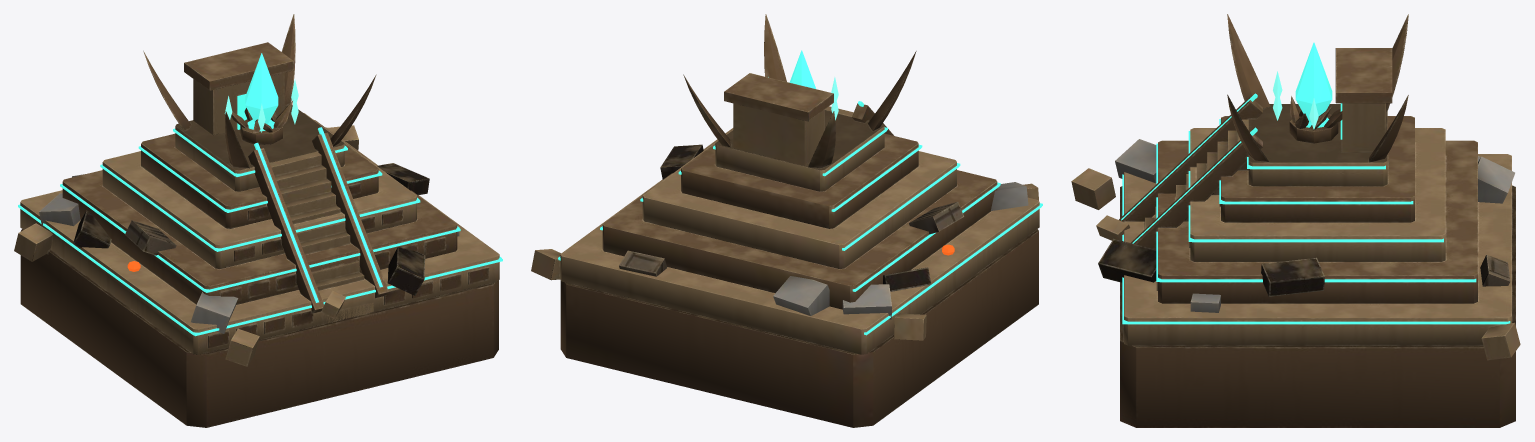
Rendered from step-temple-nahara.glb.
The picture shows the model from 3 angles, left to right: view 1: azimuth 30°, elevation 25°; view 2: azimuth 150°, elevation 25°; view 3: azimuth 270°, elevation 25°; orthographic projection. The views are drawn at different scales.
Parts seen in each view (by area): view 1: site_step_temple_nahara_body, site_step_temple_nahara_ruin, site_step_temple_nahara_core; view 2: site_step_temple_nahara_body, site_step_temple_nahara_ruin, site_step_temple_nahara_core; view 3: site_step_temple_nahara_body, site_step_temple_nahara_ruin, site_step_temple_nahara_core.
Boxes of the visible parts, box(x1,y1,x2,y2) form: site_step_temple_nahara_body: box(14, 14, 502, 427); site_step_temple_nahara_ruin: box(39, 101, 459, 333); site_step_temple_nahara_core: box(224, 53, 298, 132); site_step_temple_nahara_body: box(531, 14, 1042, 427); site_step_temple_nahara_ruin: box(619, 144, 1028, 319); site_step_temple_nahara_core: box(768, 50, 838, 120); site_step_temple_nahara_body: box(1071, 14, 1520, 427); site_step_temple_nahara_ruin: box(1096, 96, 1514, 312); site_step_temple_nahara_core: box(1273, 42, 1332, 129).
Bounding box in the file's own units: 5.73 × 4.12 × 5.56.
Materials: 5 (1 with a texture image).
